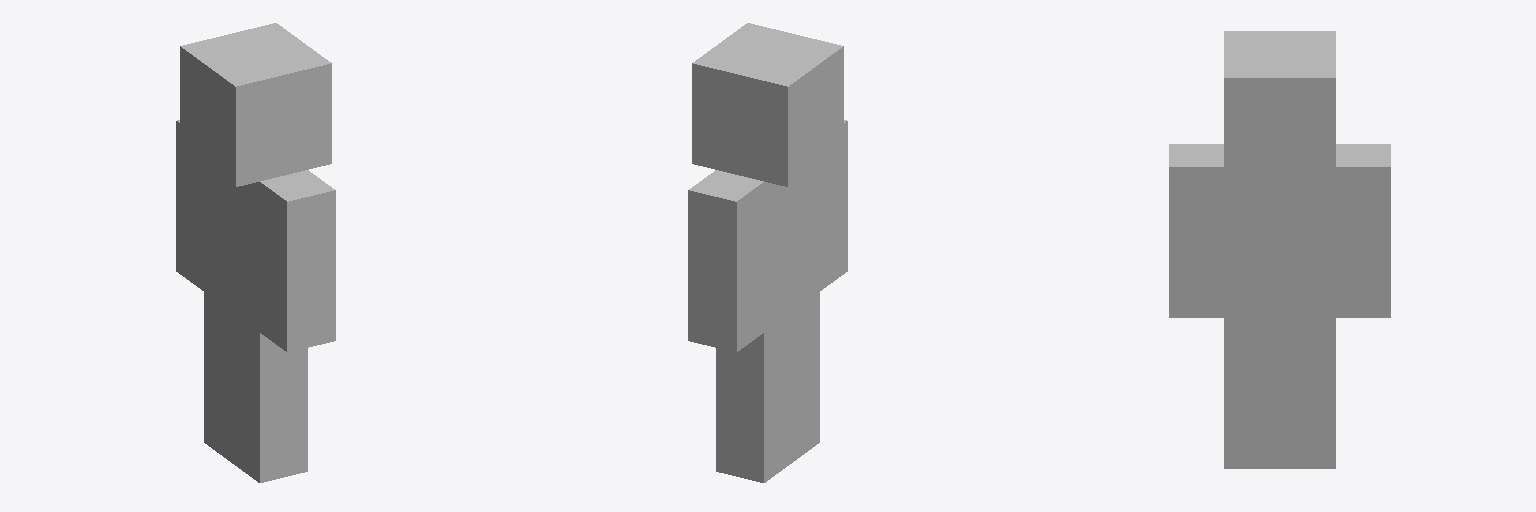
File: steve.obj
3 views of the same model, side by side, from view 1: azimuth 30°, elevation 25°; view 2: azimuth 150°, elevation 25°; view 3: azimuth 270°, elevation 25° (orthographic).
Parts seen in each view (by area): view 1: Head, R_Arm, R_Leg, Body, L_Leg, L_Arm; view 2: Head, L_Arm, L_Leg, Body, R_Leg, R_Arm; view 3: Head, Body, L_Arm, R_Arm, L_Leg, R_Leg.
Boxes of the visible parts, x1=… form: Head: x1=180, y1=23, x2=331, y2=186; R_Arm: x1=260, y1=170, x2=335, y2=352; R_Leg: x1=232, y1=313, x2=307, y2=482; Body: x1=204, y1=165, x2=259, y2=331; L_Leg: x1=204, y1=292, x2=231, y2=462; L_Arm: x1=176, y1=120, x2=203, y2=290; Head: x1=692, y1=23, x2=843, y2=186; L_Arm: x1=688, y1=170, x2=763, y2=352; L_Leg: x1=716, y1=313, x2=791, y2=482; Body: x1=764, y1=165, x2=819, y2=331; R_Leg: x1=792, y1=292, x2=819, y2=462; R_Arm: x1=820, y1=120, x2=847, y2=290; Head: x1=1224, y1=31, x2=1335, y2=178; Body: x1=1224, y1=179, x2=1335, y2=317; L_Arm: x1=1336, y1=144, x2=1390, y2=317; R_Arm: x1=1169, y1=144, x2=1223, y2=317; L_Leg: x1=1280, y1=318, x2=1335, y2=468; R_Leg: x1=1224, y1=318, x2=1279, y2=468.
Size of the model in its own units: 8 by 32 by 16.